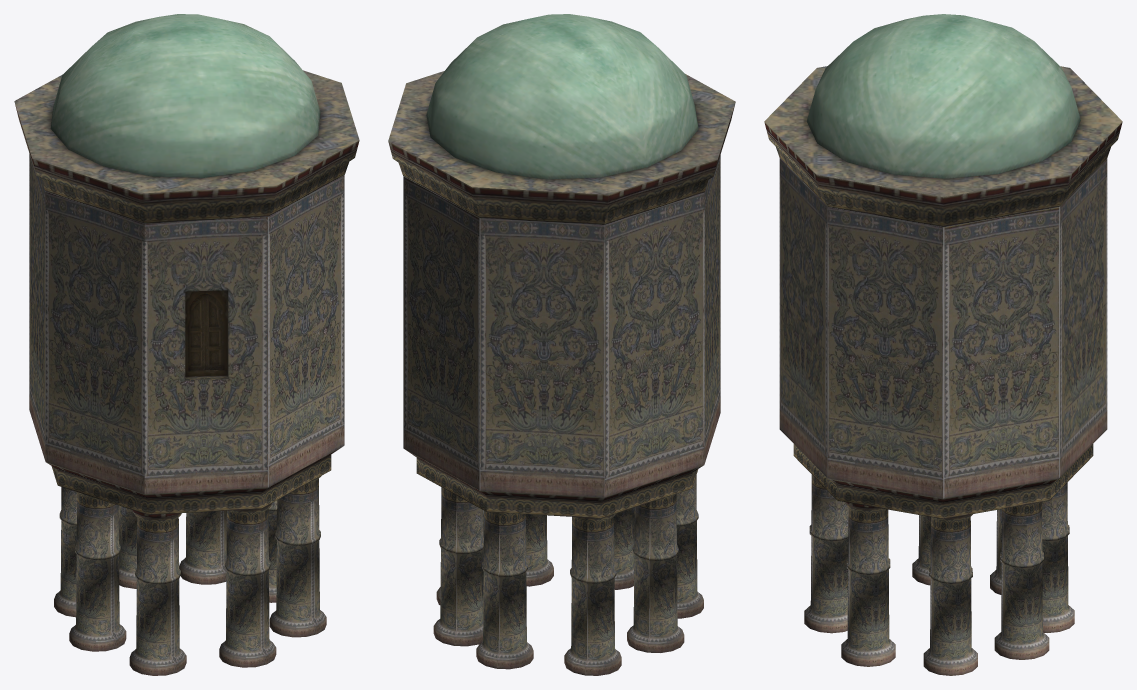
The model's file is building18.dae.
3 renders of one model, left to right at view 1: azimuth 30°, elevation 25°; view 2: azimuth 150°, elevation 25°; view 3: azimuth 270°, elevation 25°, orthographic.
Parts seen in each view (by area): view 1: meshU3D; view 2: meshU3D; view 3: meshU3D.
Boxes of the visible parts, bbox=[...] form: meshU3D: bbox=[14, 14, 359, 675]; meshU3D: bbox=[388, 14, 735, 675]; meshU3D: bbox=[764, 14, 1122, 675].
Bounding box in the file's own units: 148 × 269 × 148.
